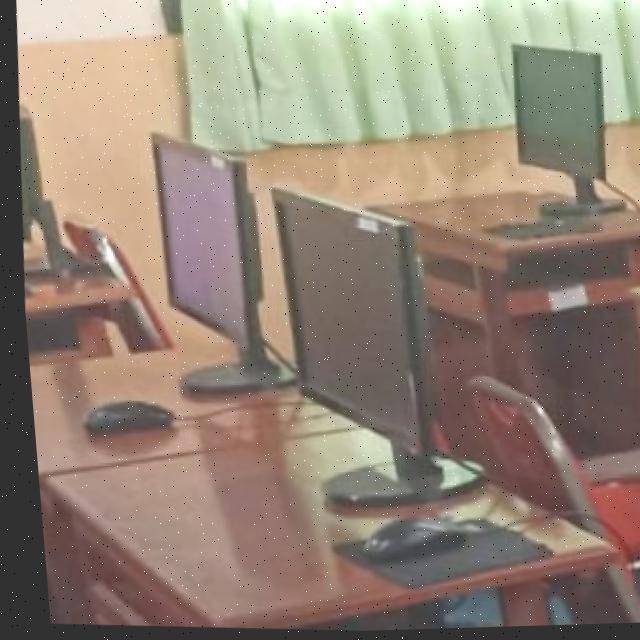offscreen: (271, 189, 421, 459), (512, 49, 601, 182)
onscreen: (153, 136, 237, 345)
